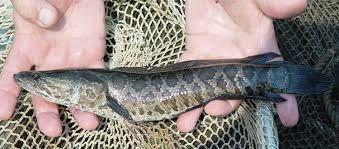Snakehead: (14, 60, 336, 123)
